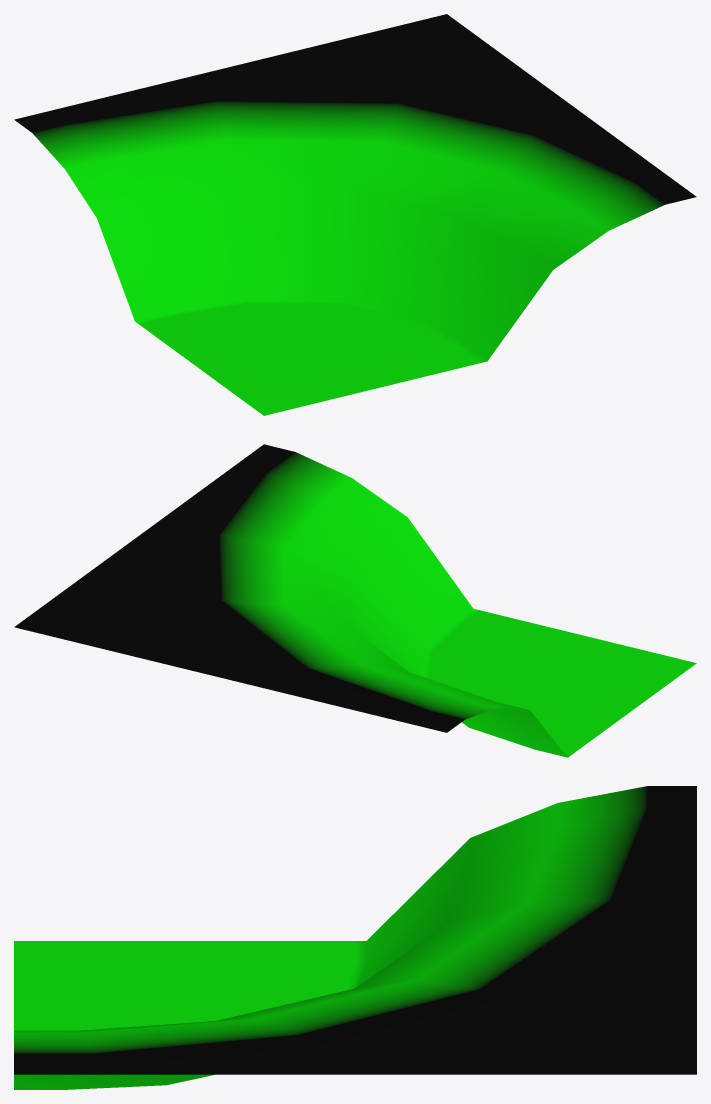
File: SM_Ground_16m_CoastCornerInside.FBX
The picture shows the model from 3 angles, top to bottom: view 1: azimuth 30°, elevation 25°; view 2: azimuth 150°, elevation 25°; view 3: azimuth 270°, elevation 25°; orthographic projection. The views are drawn at different scales.
Parts seen in each view (by area): view 1: SM_Ground_16m_CoastCornerInside; view 2: SM_Ground_16m_CoastCornerInside; view 3: SM_Ground_16m_CoastCornerInside.
Boxes of the visible parts, x1,y1,x2,y2 form: SM_Ground_16m_CoastCornerInside: (14, 14, 696, 415); SM_Ground_16m_CoastCornerInside: (14, 444, 696, 757); SM_Ground_16m_CoastCornerInside: (14, 786, 696, 1089).
Bounding box in the file's own units: 1600 × 1600 × 400.
